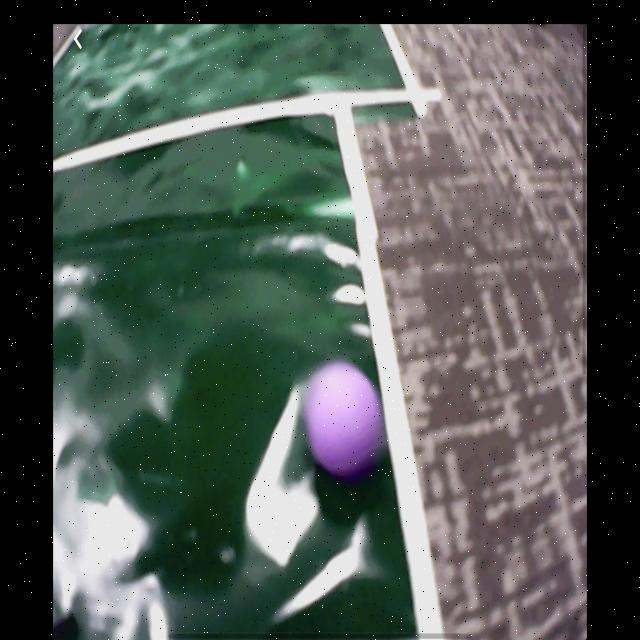ball: (309, 361, 384, 472)
